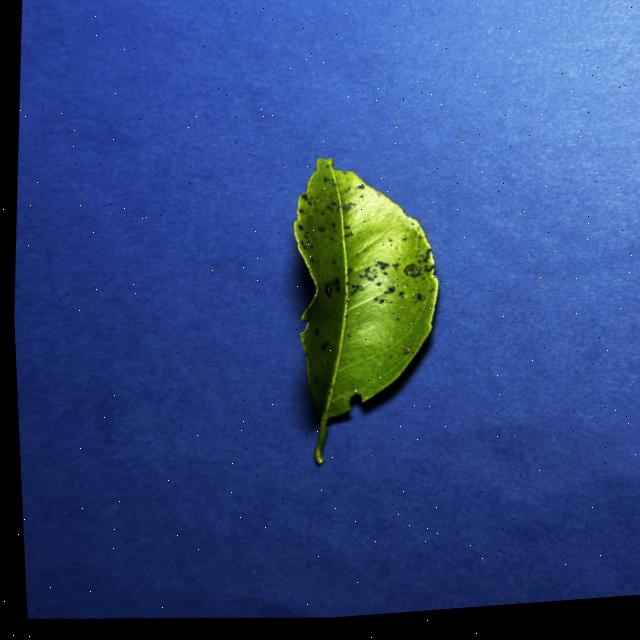sooty_mold: (293, 158, 437, 464)
